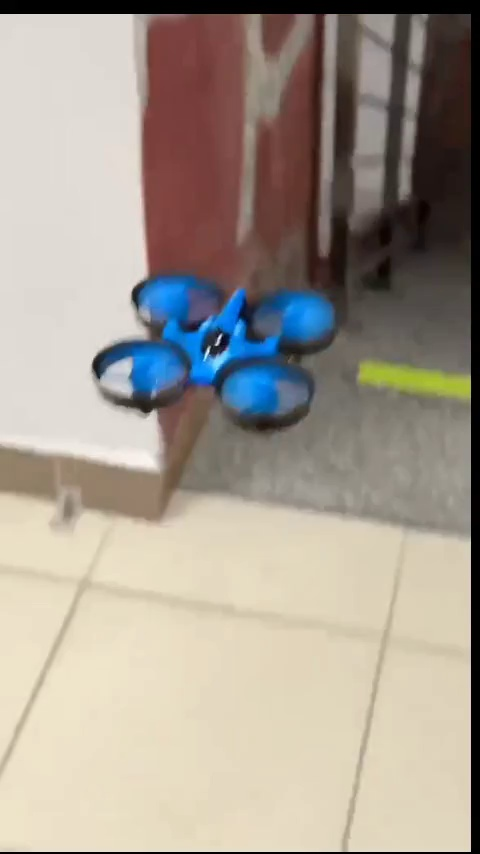drone: (96, 274, 341, 435)
